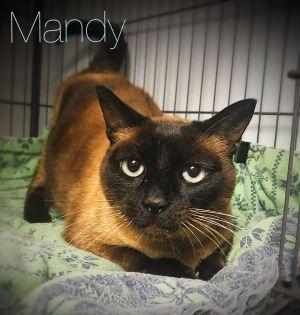siamese: (89, 73, 263, 258)
